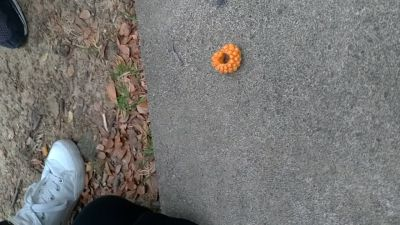eggs: (212, 43, 242, 74)
